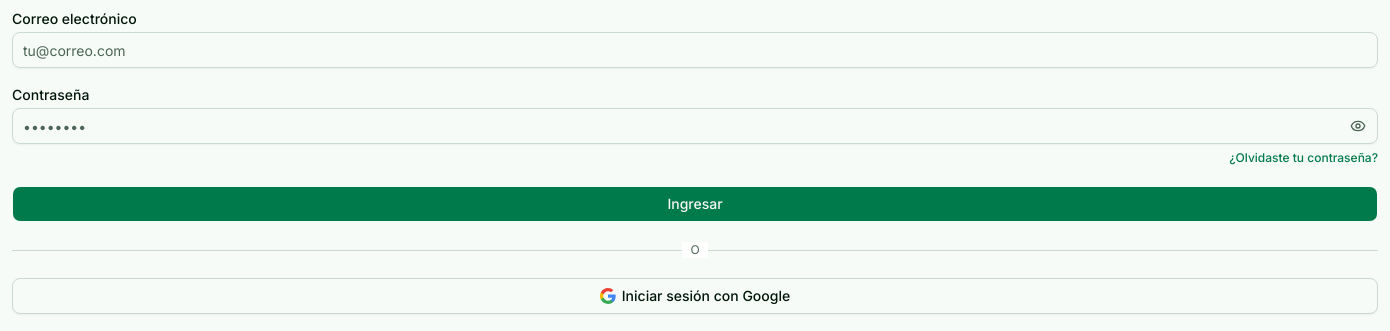
Test: LoginForm › disables the submit button and shows the pending label while the action is in flight
Type "ana@example.com" into the field labelled "Correo electrónico" at (695, 50), box [12, 32, 1378, 68]
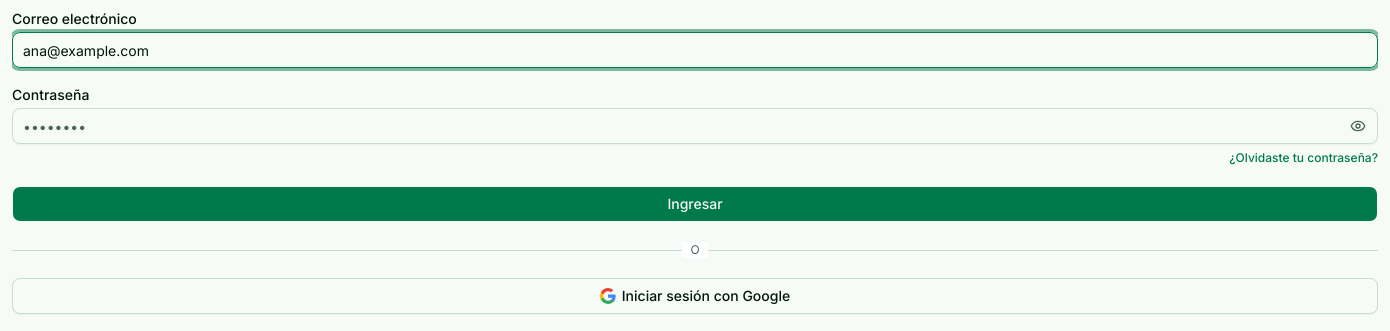
Type "Secreta123!" into the password field labelled "Contraseña" at (695, 126), box [12, 108, 1378, 144]
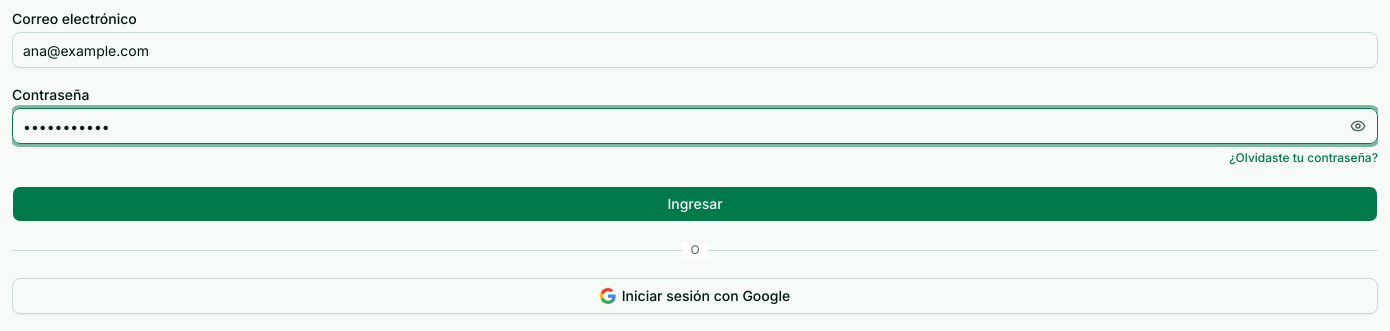
Click the button "Ingresar" at (695, 204), box [12, 186, 1378, 222]
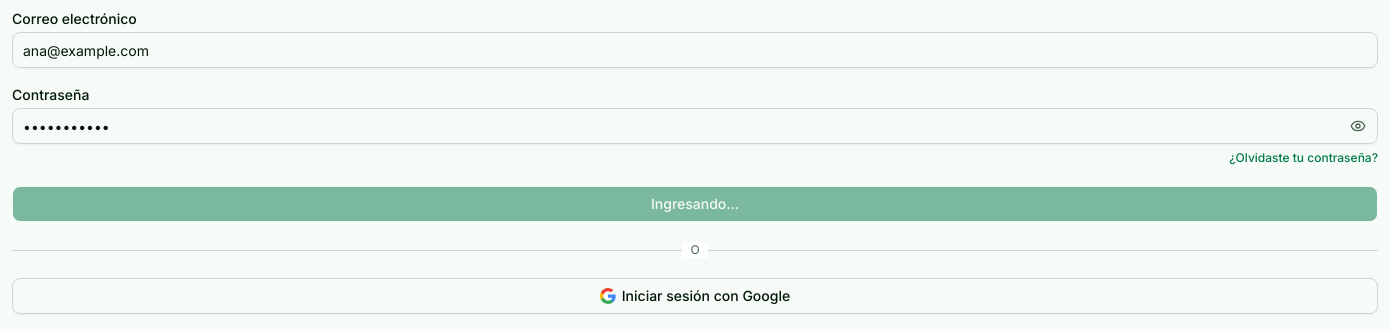
expect the button "Ingresando..." is disabled: met, box [12, 186, 1378, 222]
